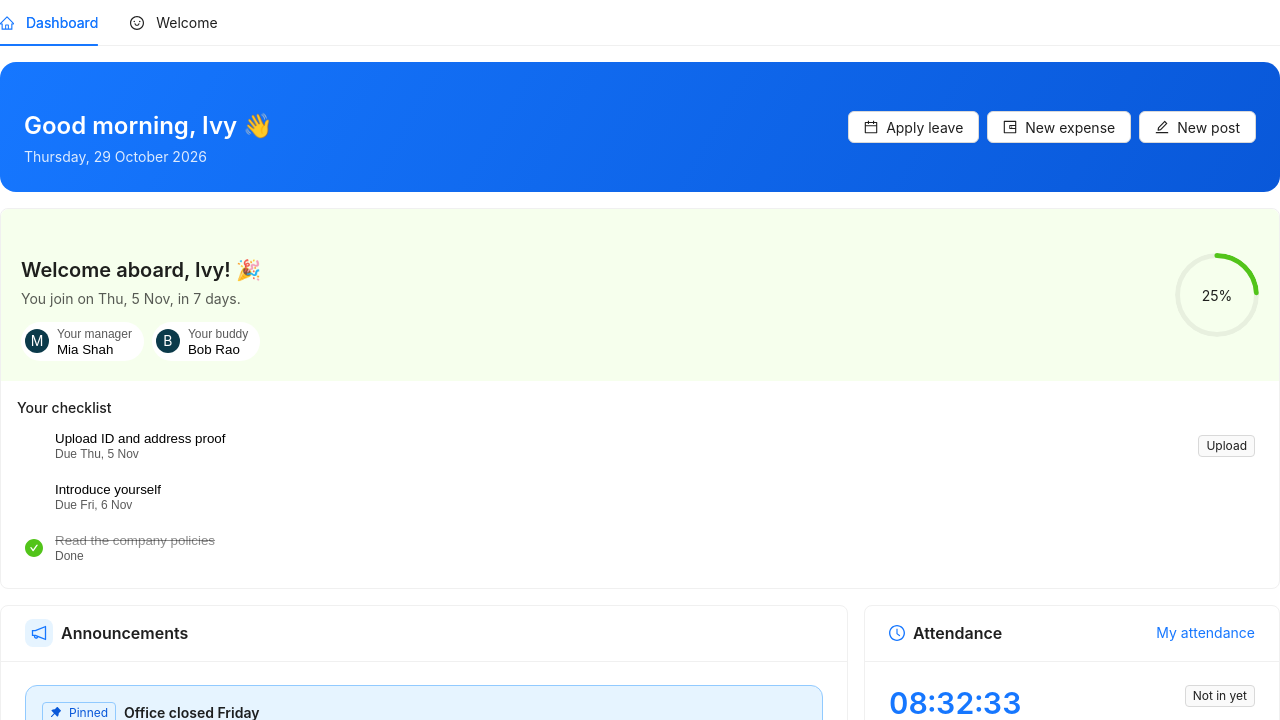
Onboarding and offboarding on Home › welcomes a new joiner before day one, with their people, progress and checklist
This screenshot has width=1280, height=720.
Expected: the heading "Welcome aboard, Ivy! 🎉" is shown, [21,256,261,284]
Expected: the text named "25% of onboarding finished" is shown, [1202,286,1232,303]
Note: Meet the manager.
Click the button with aria-label "Your manager: Mia Shah".
click(82, 341)  # box [21,322,144,361]
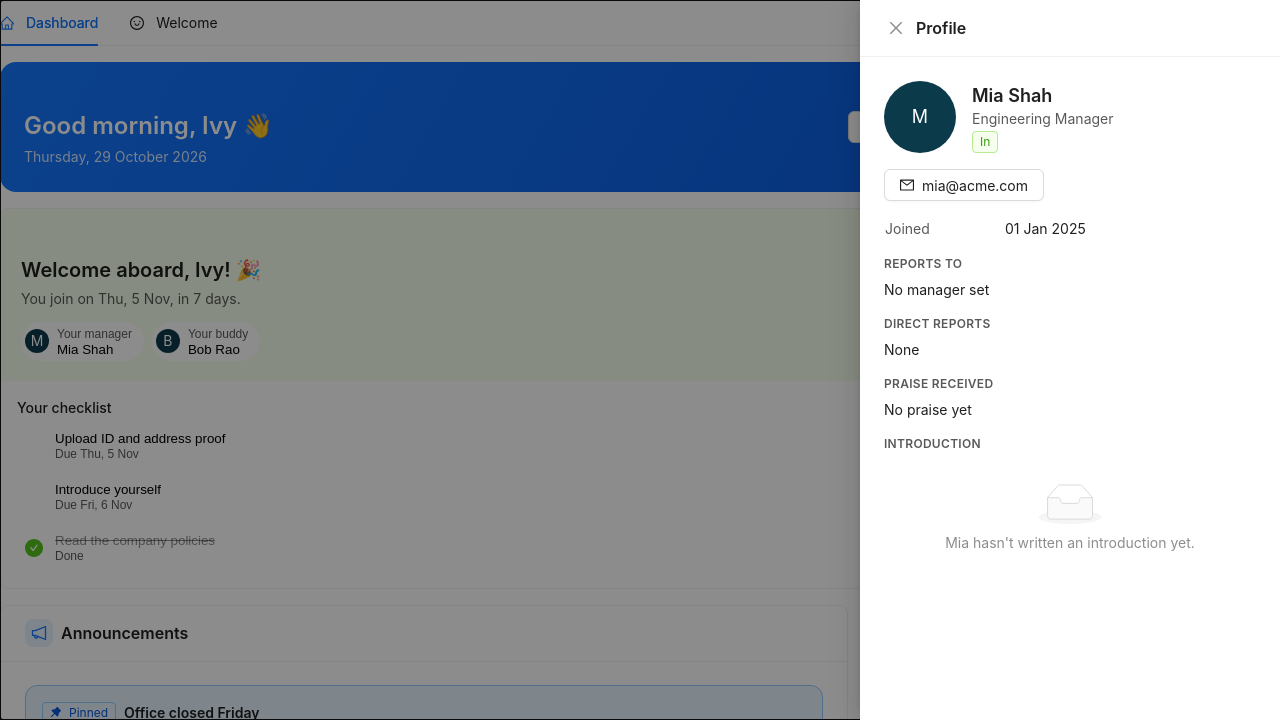
Expected: the button with aria-label "Your buddy: Bob Rao" is shown, [152,322,260,361]
Result: the text "mia@acme.com" is shown at [922,176,1028,194]
